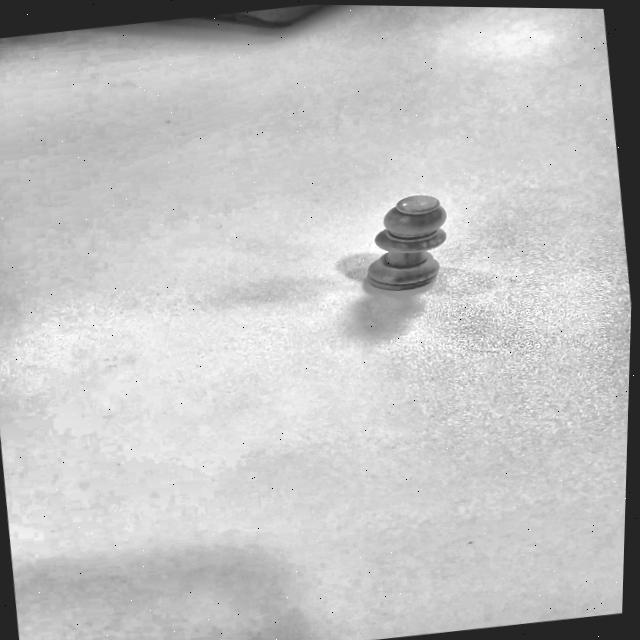white-bishop: (339, 194, 446, 332)
